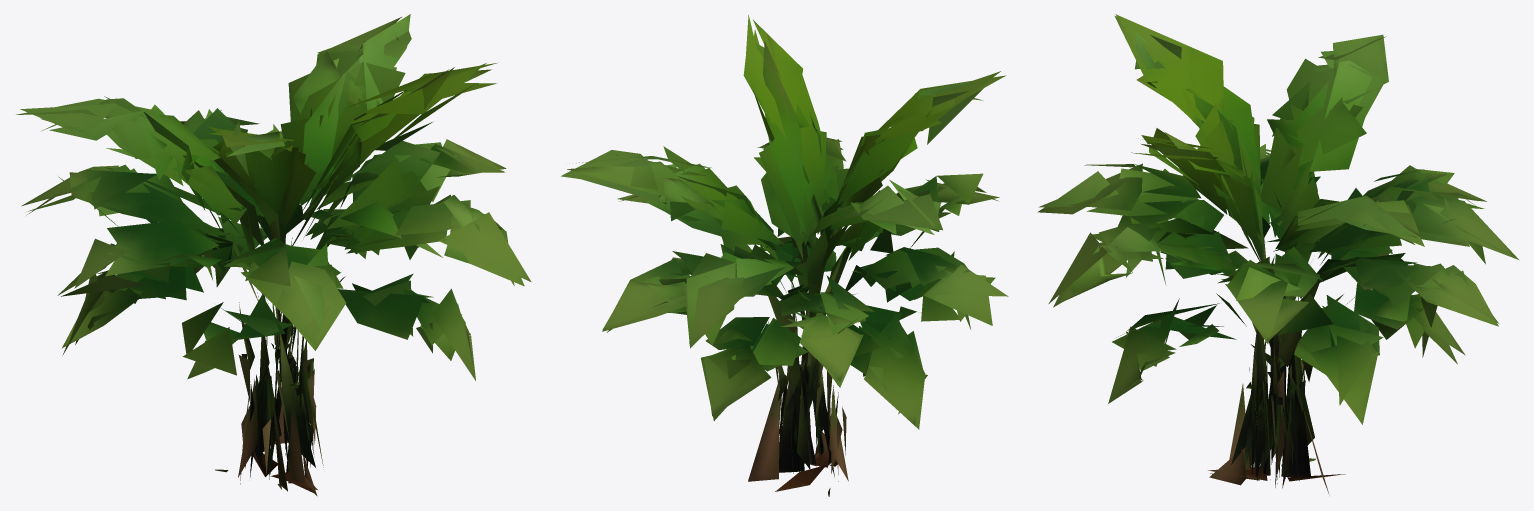
File: biome_banana_lo.glb
3 views of the same model, side by side, from view 1: azimuth 30°, elevation 25°; view 2: azimuth 150°, elevation 25°; view 3: azimuth 270°, elevation 25° (orthographic). The views are drawn at different scales.
Visible parts, largest first — view 1: Mesh_0; view 2: Mesh_0; view 3: Mesh_0.
Boxes of the visible parts, x1,y1,x2,y2 form: Mesh_0: (16,14,531,496); Mesh_0: (561,15,1008,496); Mesh_0: (1037,14,1519,494).
Bounding box in the file's own units: 3.8 × 3.62 × 3.83.
Materials: 1 (1 with a texture image).
